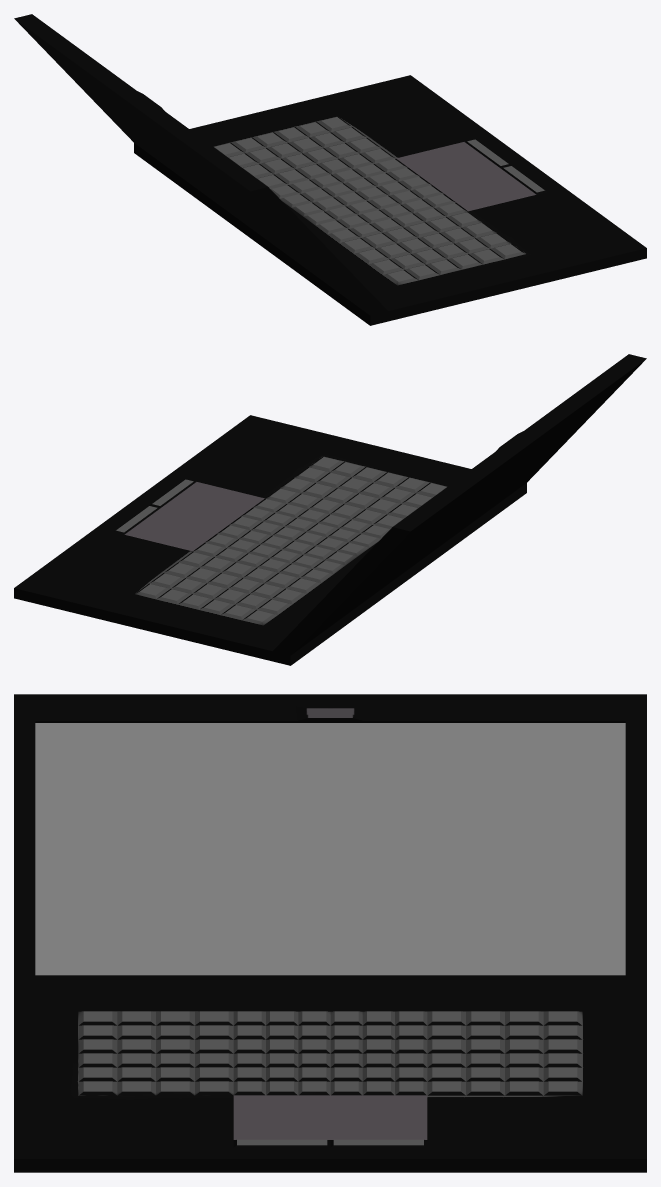
The model's file is laptop.gltf.
3 views of the same model, one above another, from view 1: azimuth 30°, elevation 25°; view 2: azimuth 150°, elevation 25°; view 3: azimuth 270°, elevation 25° (orthographic). The views are drawn at different scales.
Visible parts, largest first — view 1: Cube; view 2: Cube; view 3: Cube.
Part boxes in pixels (bbox=[...]): Cube: bbox=[14, 14, 646, 325]; Cube: bbox=[14, 354, 646, 665]; Cube: bbox=[14, 694, 646, 1172].
Size of the model in its own units: 2.73 by 1.08 by 2.82.
1 material, 1 textured.
